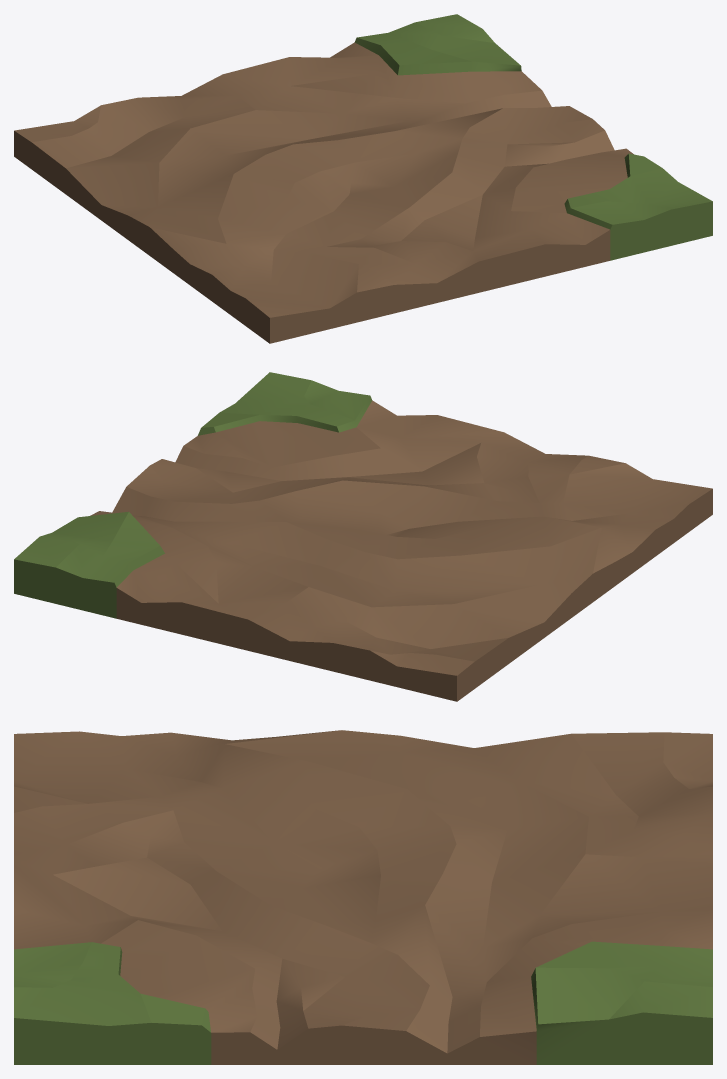
File: Ground_Road_Entrance_R.glb
The picture shows the model from 3 angles, top to bottom: view 1: azimuth 30°, elevation 25°; view 2: azimuth 150°, elevation 25°; view 3: azimuth 270°, elevation 25°; orthographic projection. The views are drawn at different scales.
Visible parts, largest first — view 1: Ground_Road_Entrance_R; view 2: Ground_Road_Entrance_R; view 3: Ground_Road_Entrance_R.
Boxes of the visible parts, <box> form: Ground_Road_Entrance_R: <box>14,14,712,343</box>; Ground_Road_Entrance_R: <box>14,372,712,701</box>; Ground_Road_Entrance_R: <box>14,730,712,1064</box>.
Size of the model in its own units: 1.47 by 0.1477 by 1.47.
